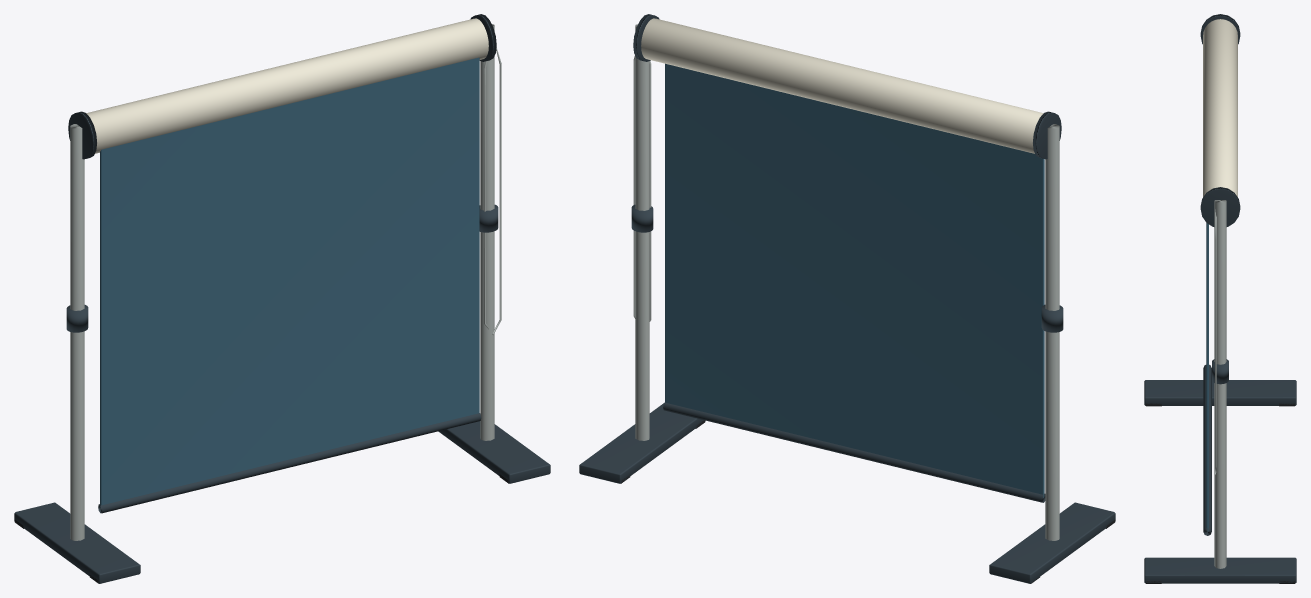
File: S077_backdrop_roller_rebuilt.glb
3 views of the same model, side by side, from view 1: azimuth 30°, elevation 25°; view 2: azimuth 150°, elevation 25°; view 3: azimuth 270°, elevation 25° (orthographic). The views are drawn at different scales.
Visible parts, largest first — view 1: blue, white, shell, silver; view 2: blue, white, shell, silver; view 3: shell, white, silver, blue.
Boxes of the visible parts, <box> form: blue: <box>100,57,479,507</box>; white: <box>86,18,488,153</box>; shell: <box>14,14,550,583</box>; silver: <box>70,24,501,540</box>; blue: <box>665,63,1044,497</box>; white: <box>641,18,1043,153</box>; shell: <box>579,14,1115,583</box>; silver: <box>633,24,1059,540</box>; shell: <box>1144,14,1296,583</box>; white: <box>1203,19,1237,196</box>; silver: <box>1214,200,1226,568</box>; blue: <box>1206,223,1208,531</box>.
Bounding box in the file's own units: 3.2 × 2.93 × 1.05.
